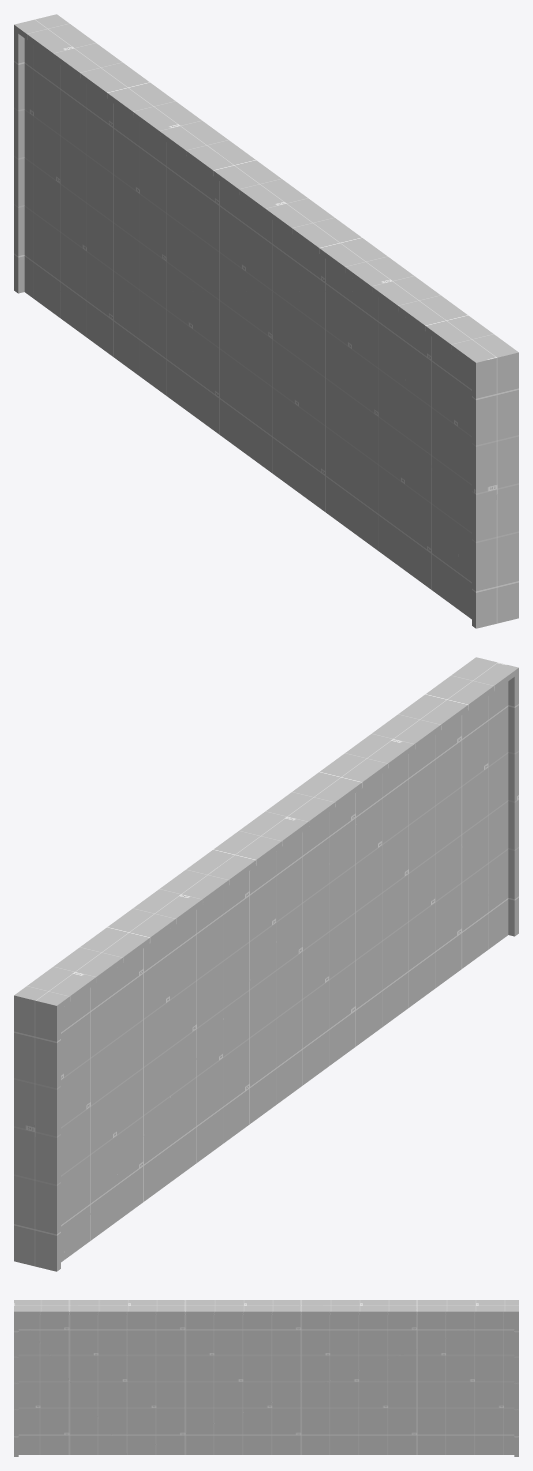
The model's file is SM_Wall_Lego_03.FBX.
3 renders of one model, top to bottom at view 1: azimuth 30°, elevation 25°; view 2: azimuth 150°, elevation 25°; view 3: azimuth 270°, elevation 25°, orthographic. The views are drawn at different scales.
Parts seen in each view (by area): view 1: SM_Wall_Lego_03; view 2: SM_Wall_Lego_03; view 3: SM_Wall_Lego_03.
Boxes of the visible parts, bbox=[...] form: SM_Wall_Lego_03: bbox=[14, 14, 518, 628]; SM_Wall_Lego_03: bbox=[14, 657, 518, 1271]; SM_Wall_Lego_03: bbox=[14, 1300, 518, 1456].
Size of the model in its own units: 17.46 by 104 by 326.
